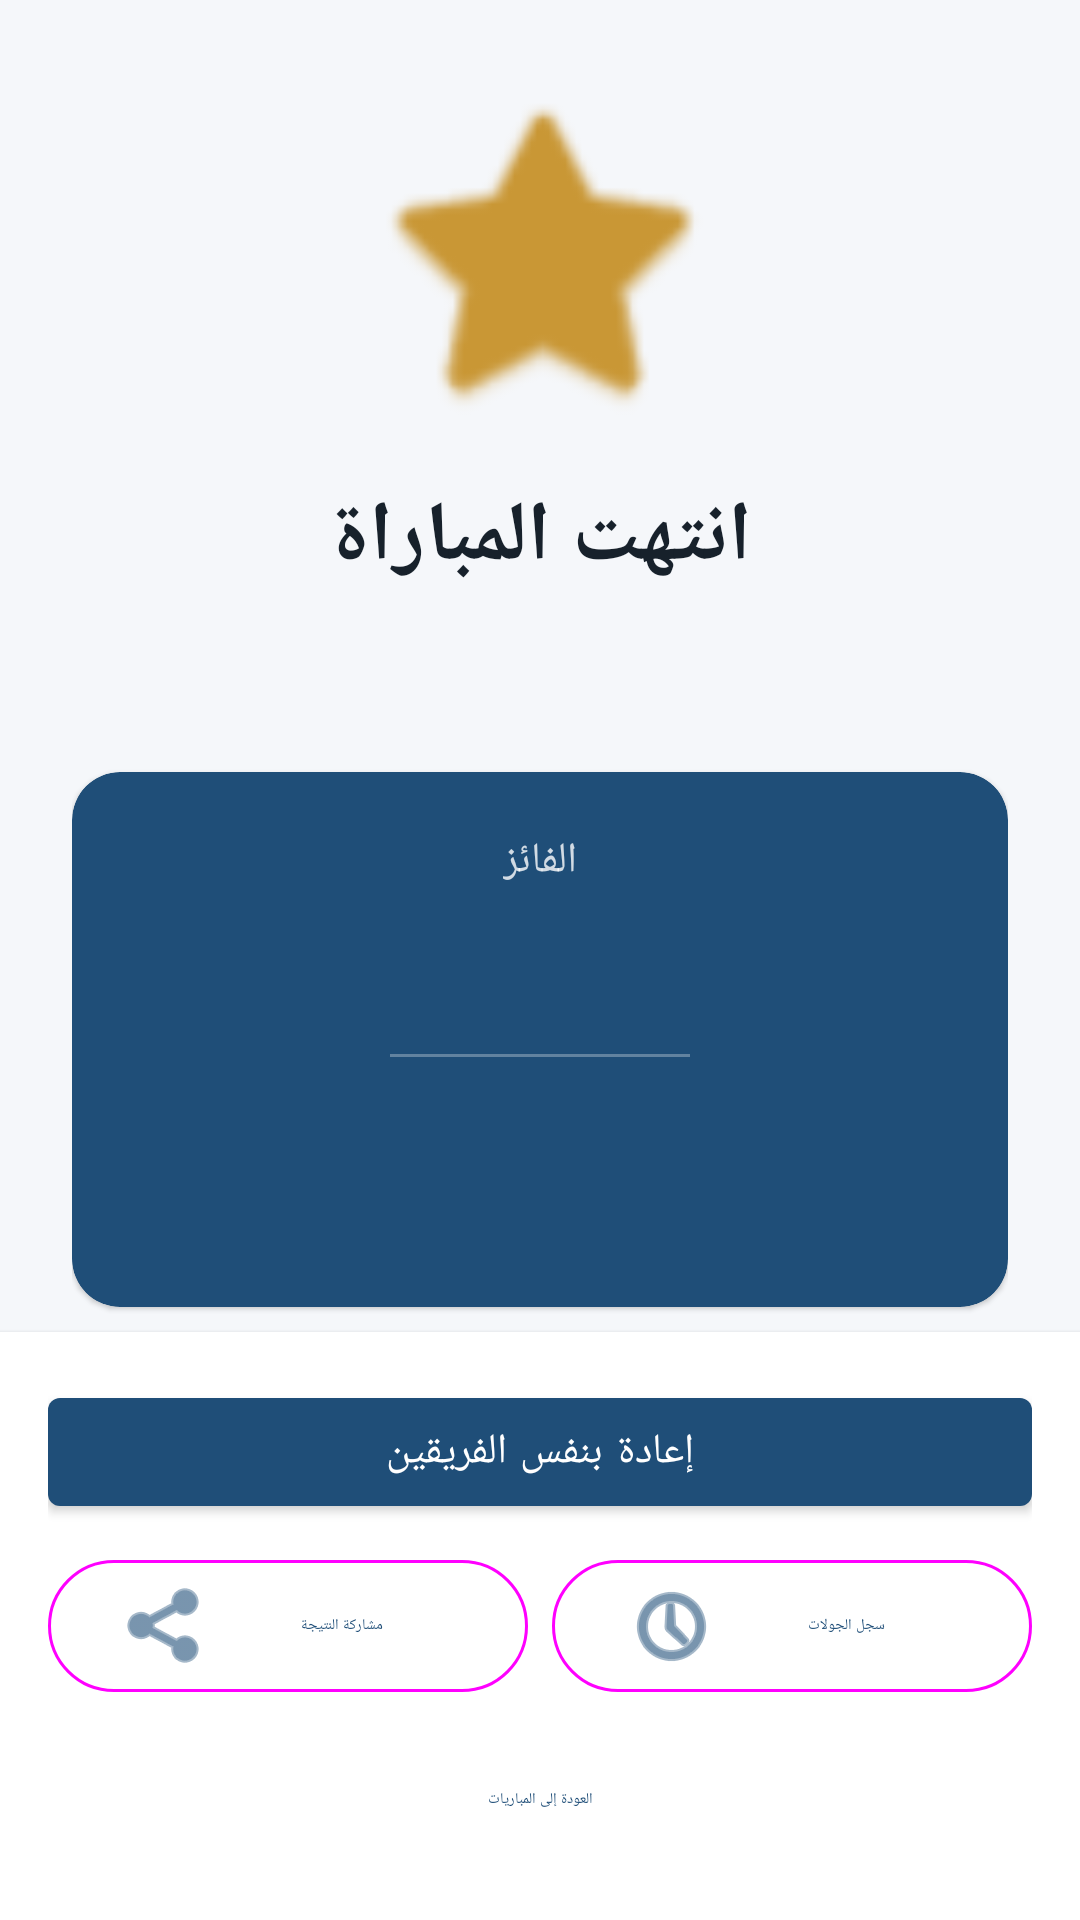

Icons on this 1080×1920 Android screen, each with its box as (x1, y1, x2, y2):
star on: (393, 109, 693, 400)
